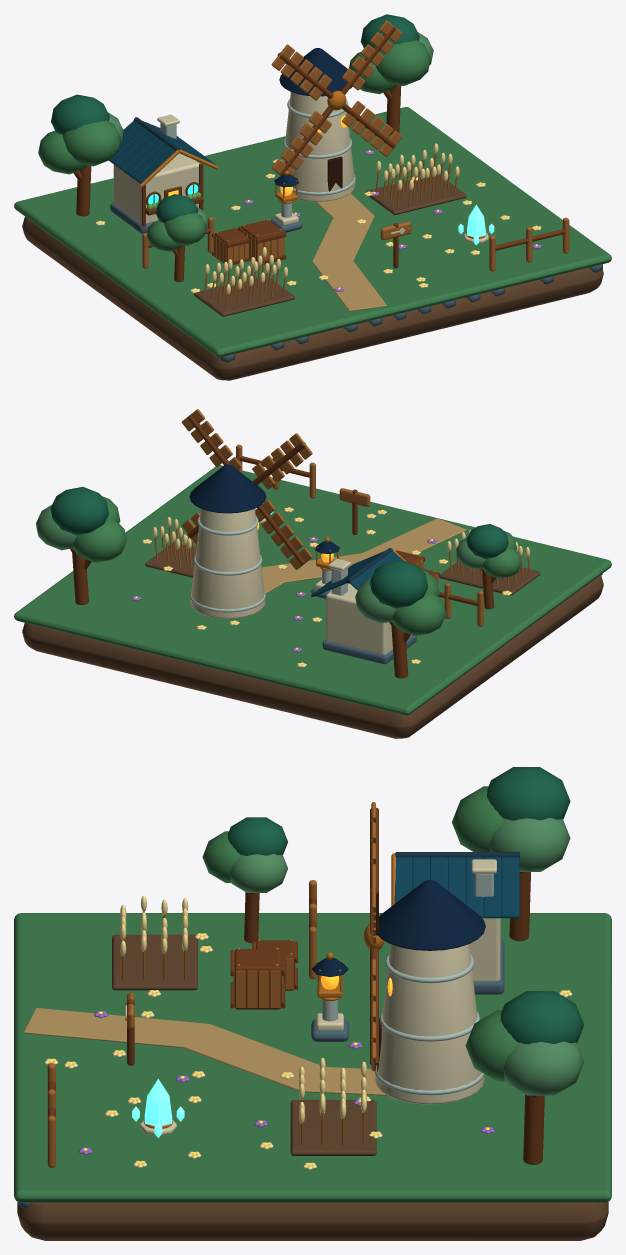
Rendered from 03_windmill_meadow.glb.
3 views of the same model, one above another, from view 1: azimuth 30°, elevation 25°; view 2: azimuth 150°, elevation 25°; view 3: azimuth 270°, elevation 25° (orthographic). The views are drawn at different scales.
Visible parts, largest first — view 1: diorama_surface, diorama_earth, windmill_tower, cottage_plaster, wheat_plot, sandy_path.001, wheat_plot.001, sandy_path, round_canopy.002, round_canopy.006, round_canopy.003, windmill_roof (+10 smaller); view 2: diorama_surface, diorama_earth, windmill_tower, cottage_plaster, windmill_roof, round_canopy.003, round_canopy.007, sandy_path, round_canopy, round_canopy.004, wheat_plot, sandy_path.001 (+9 smaller); view 3: diorama_surface, diorama_earth, windmill_tower, windmill_roof, wheat_plot, wheat_plot.001, sandy_path, sandy_path.001, round_canopy.003, round_canopy.007, round_canopy.005, round_canopy.001 (+16 smaller).
Part boxes in pixels (x1,y1,x2,y2): diorama_surface: (14,107,611,357); diorama_earth: (22,217,603,380); windmill_tower: (283,92,355,201); cottage_plaster: (113,153,199,223); wheat_plot: (194,275,295,316); sandy_path.001: (312,212,374,264); wheat_plot.001: (366,174,466,214); sandy_path: (312,260,386,311); round_canopy.002: (62,120,120,166); round_canopy.006: (376,40,430,85); round_canopy.003: (51,94,109,134); windmill_roof: (279,48,352,96); diorama_surface: (14,465,611,715); diorama_earth: (22,575,603,738); windmill_tower: (190,509,265,618); cottage_plaster: (326,583,411,654); windmill_roof: (189,464,266,513); round_canopy.003: (369,560,428,608); round_canopy.007: (50,486,108,535); sandy_path: (361,518,466,558); round_canopy: (392,593,446,636); round_canopy.004: (72,520,126,562); wheat_plot: (439,561,540,595); sandy_path.001: (261,552,374,582); diorama_surface: (14,913,611,1202); diorama_earth: (17,1202,608,1240); windmill_tower: (375,944,484,1104); windmill_roof: (376,880,485,950); wheat_plot: (112,934,197,990); wheat_plot.001: (290,1100,376,1155); sandy_path: (23,1008,208,1047); sandy_path.001: (172,1024,336,1090); round_canopy.003: (487,767,570,820); round_canopy.007: (500,991,583,1044); round_canopy.005: (503,1041,583,1095); round_canopy.001: (489,818,570,871).
Size of the model in its own units: 9.74 by 4.9 by 8.7.
